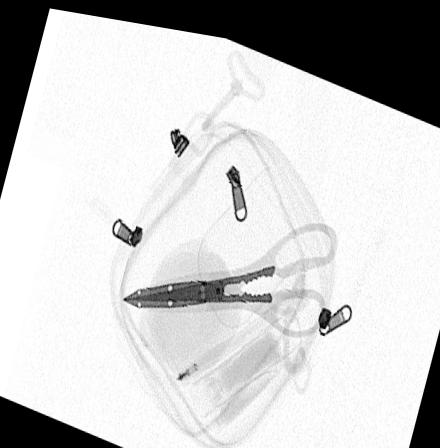Scissors: (119, 208, 340, 329)
